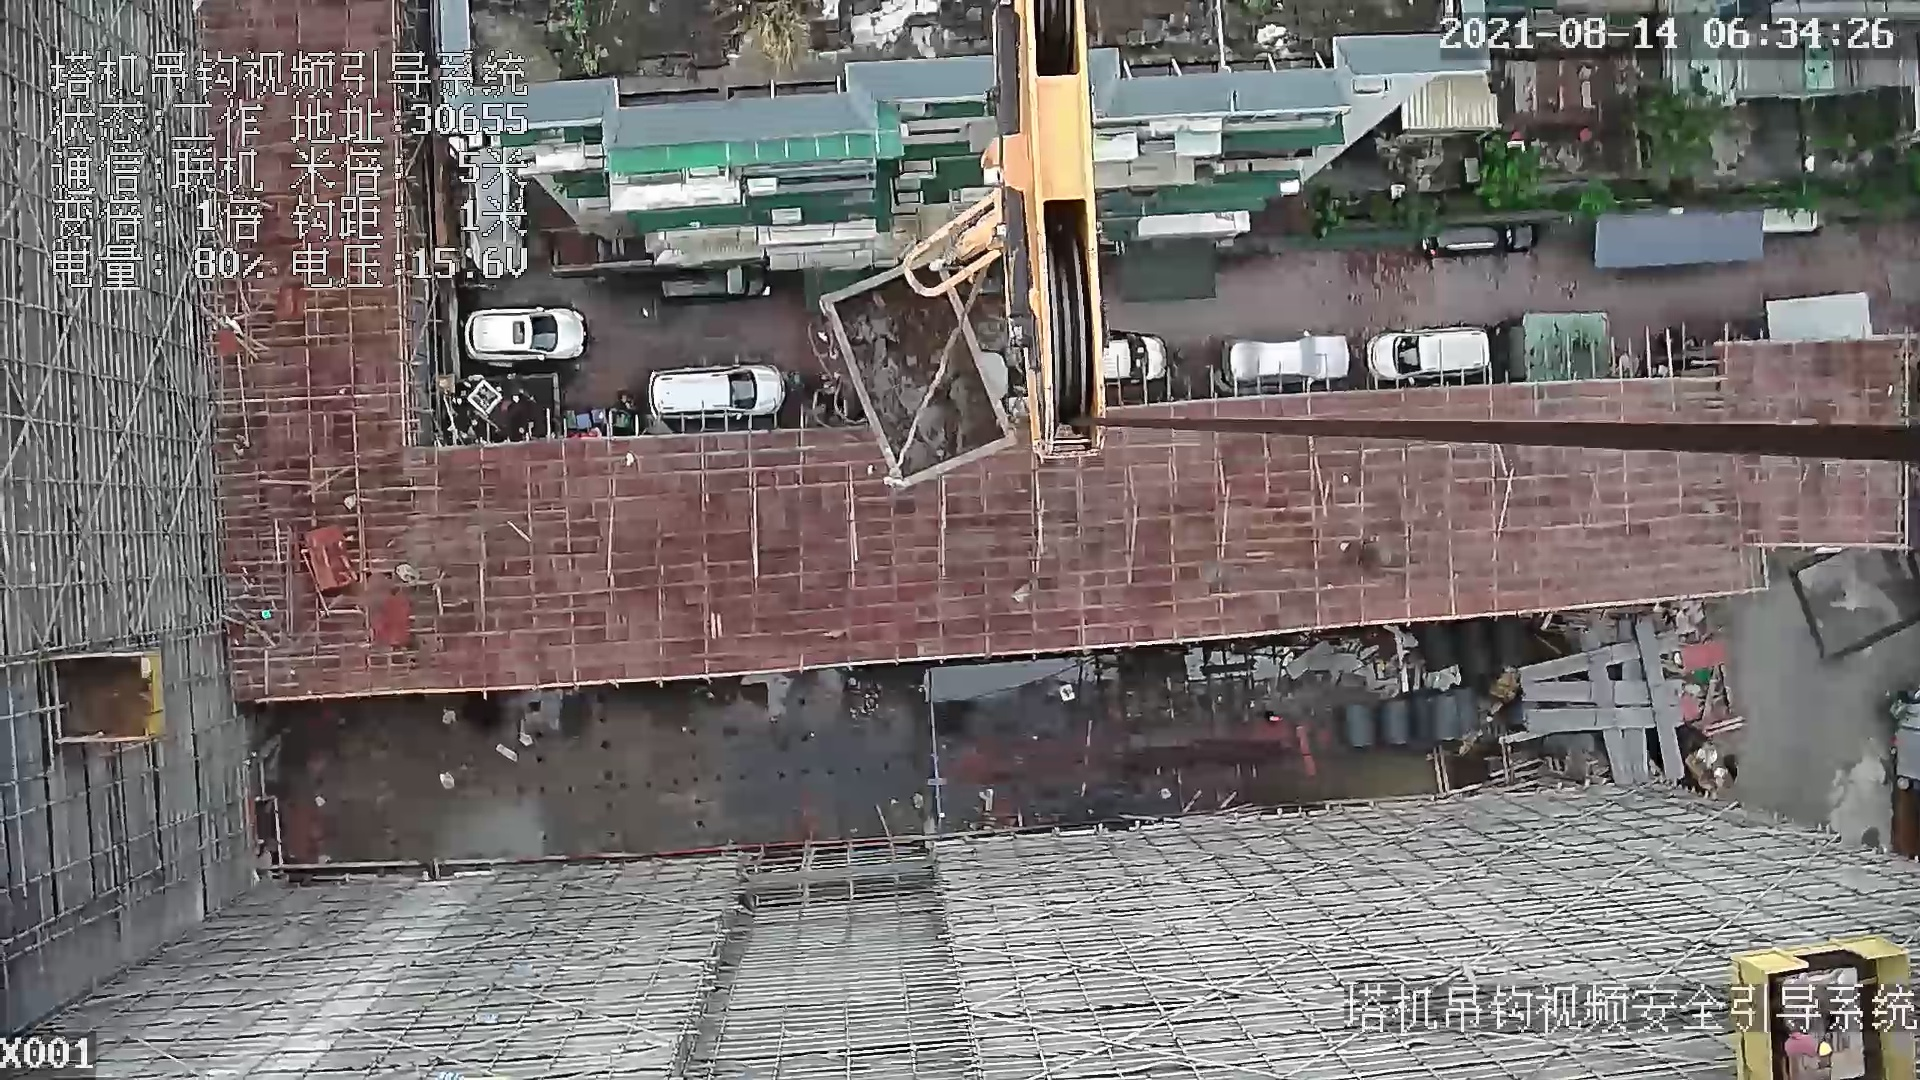helmet: (1819, 1041, 1833, 1059)
hook: (901, 1, 1104, 459)
hopper: (817, 246, 1022, 495)
person: (1781, 1033, 1835, 1063)
